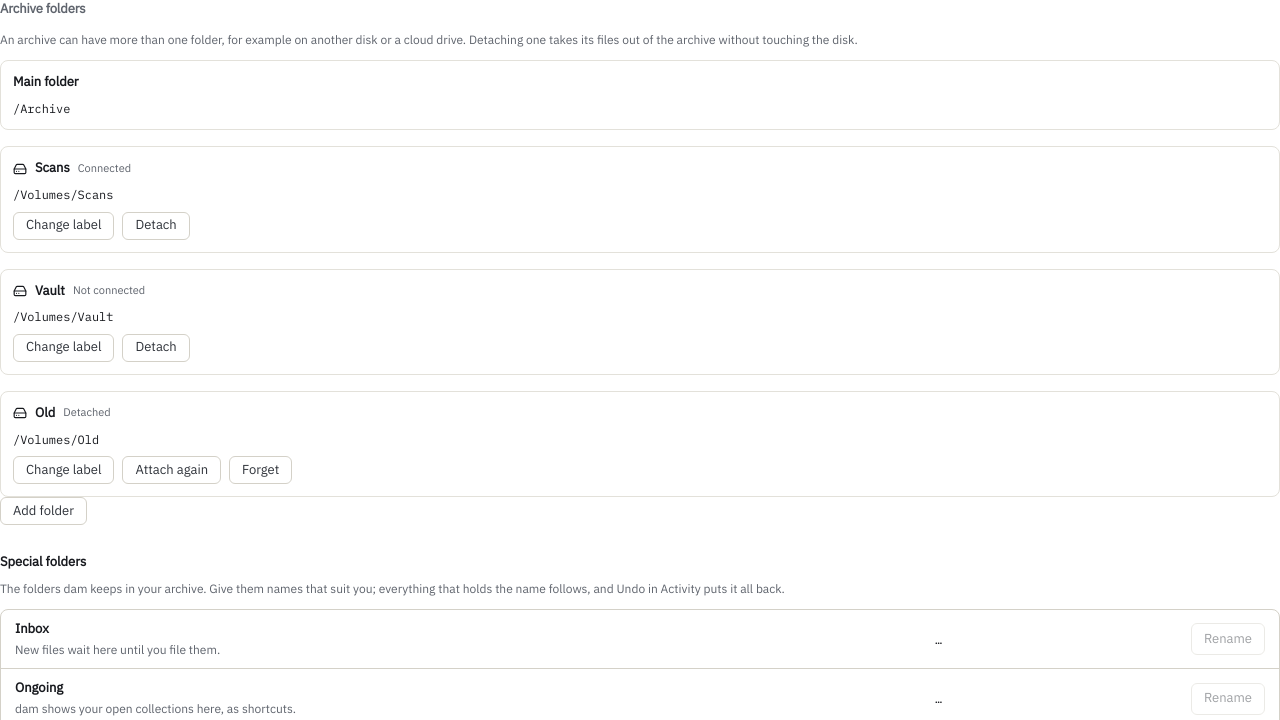
Test case: Archive folders settings › Add folder fills the path from the system folder dialog
Step 1. Click the button "Add folder" → x=43, y=511, box [0,497,87,525]
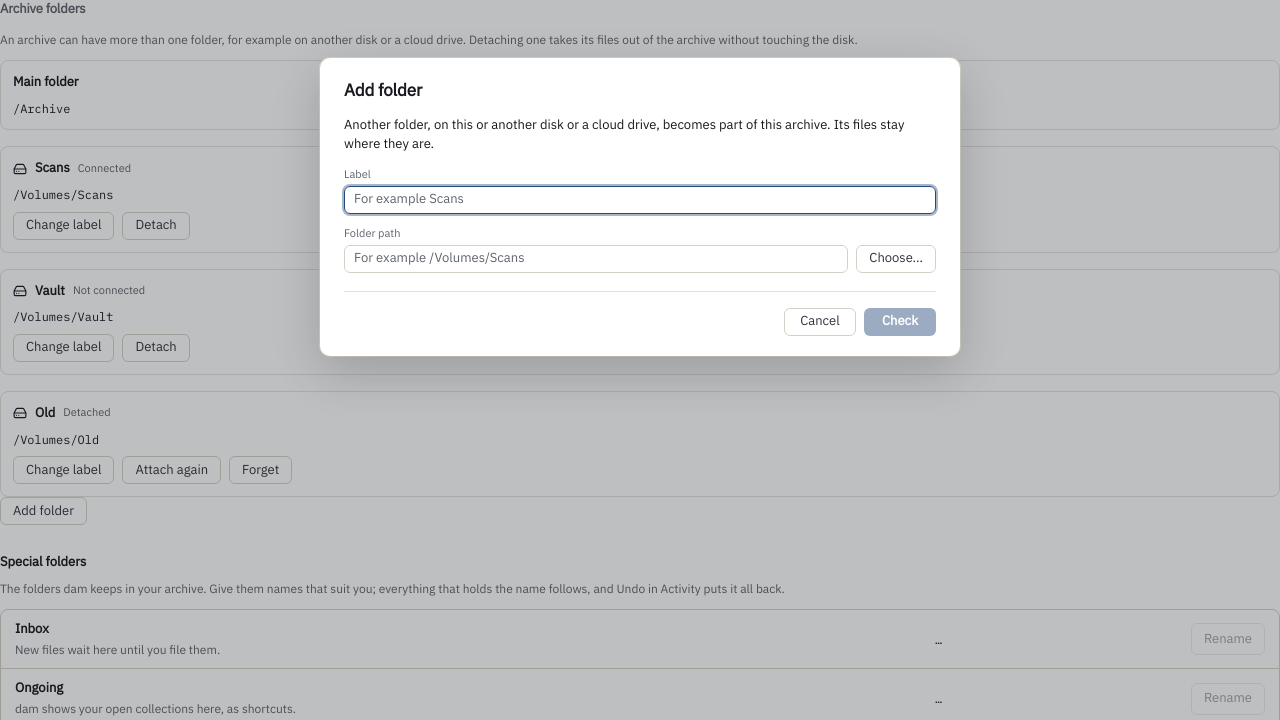
Step 2. Click the button "Choose…" → x=896, y=259, box [856,245,936,273]
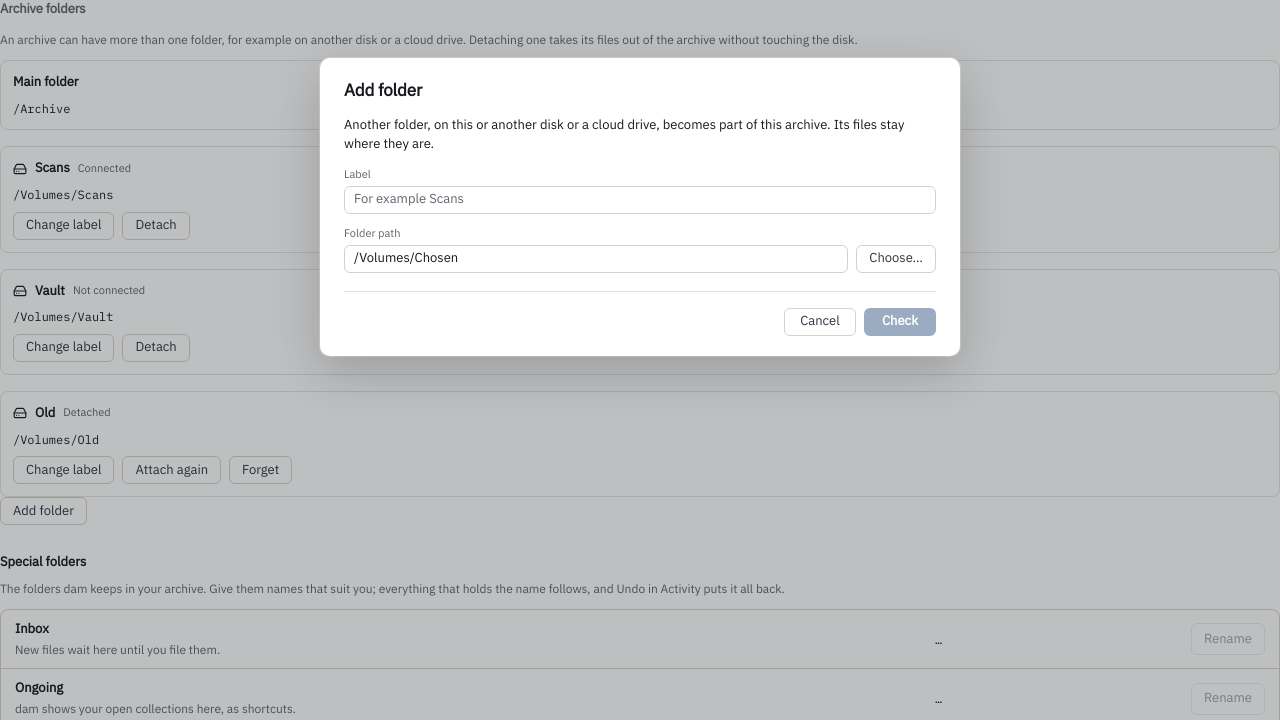
Check: the field labelled "Folder path" holds "/Volumes/Chosen", box [344,245,848,273]
